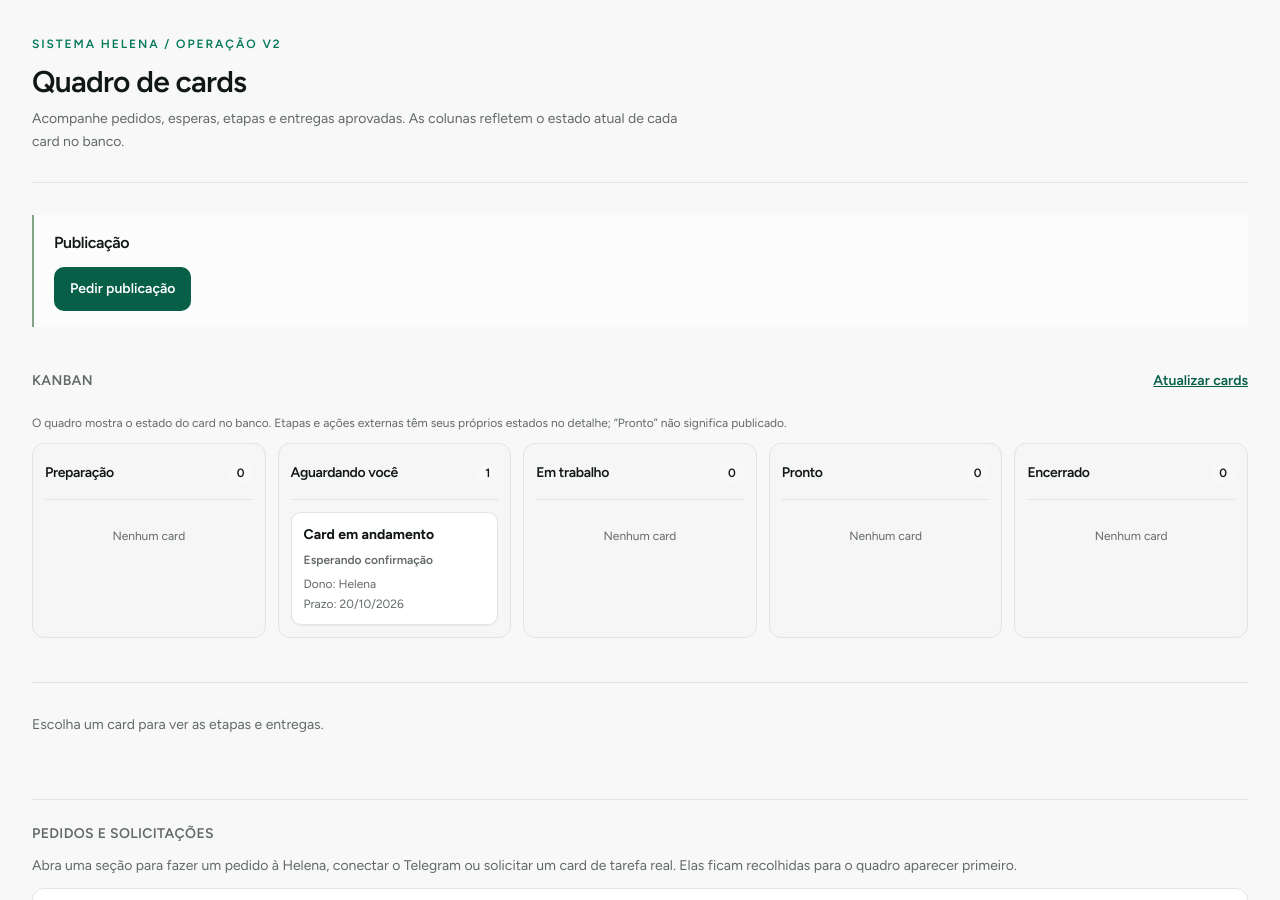
CardV2Page (fundador): botões e links › botões das áreas do fundador que tratam falhas de leitura declaram alvo de toque
Click the button "Card em andamento": click(394, 568) [291,512,498,625]
(page scrolled)
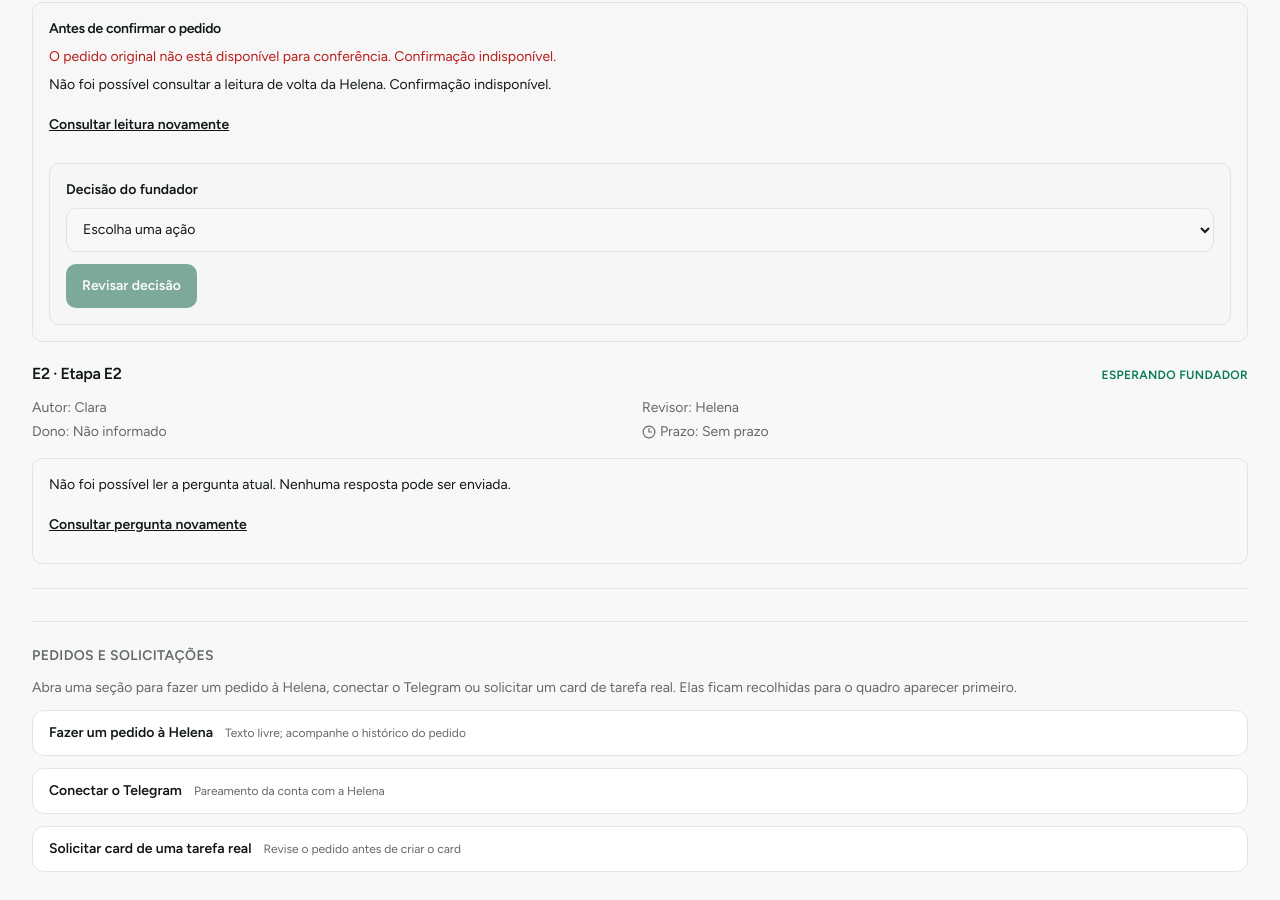
Result: the button "Consultar leitura novamente" is shown at [49,103,229,147]
Result: the button "Consultar pergunta novamente" is shown at [49,503,247,547]
